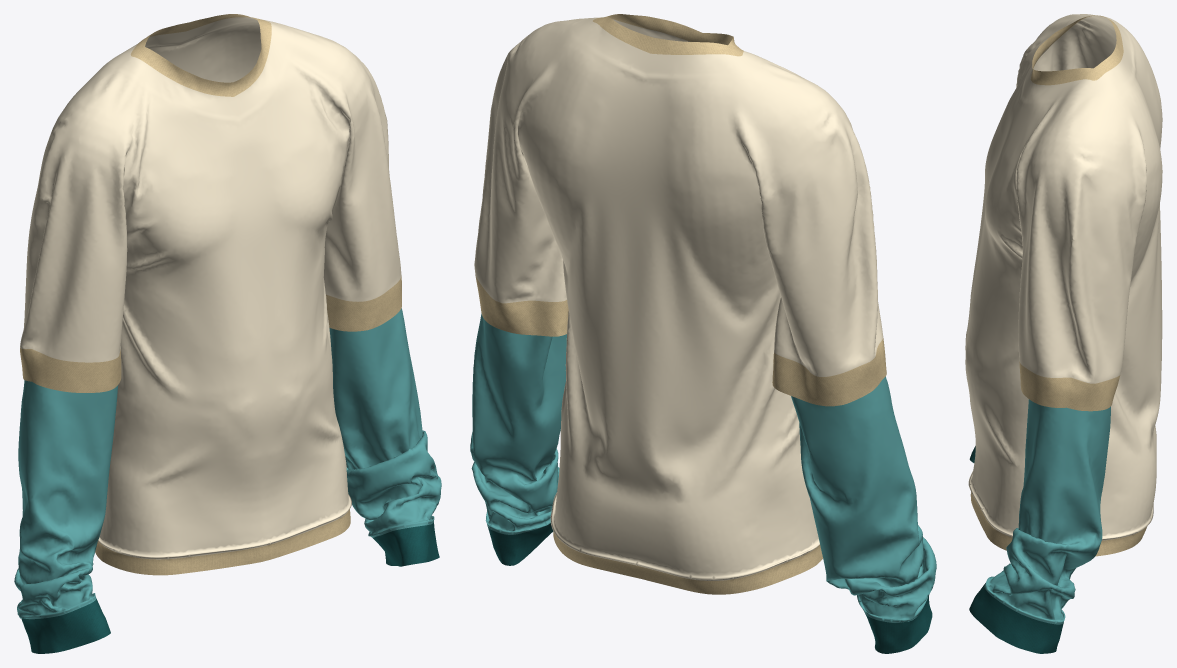
File: jacket.glb
3 views of the same model, side by side, from view 1: azimuth 30°, elevation 25°; view 2: azimuth 150°, elevation 25°; view 3: azimuth 270°, elevation 25° (orthographic). The views are drawn at different scales.
Parts seen in each view (by area): view 1: Internal Line_431419_15, Pattern_417755_2, Pattern_417758_5, Internal Line_431420_16, Internal Line_431421_17, Internal Line_431413_12, Internal Line_431412_6, Pattern_417756_3, Internal Line_431415_8, Internal Line_431406_0, Internal Line_431416_9, Pattern_417757_4 (+2 smaller); view 2: Internal Line_431413_12, Pattern_417755_2, Pattern_417758_5, Internal Line_431418_14, Internal Line_431417_13, Internal Line_431419_15, Internal Line_431408_7, Internal Line_431411_11, Internal Line_431410_10, Internal Line_431404_1, Pattern_417756_3, Internal Line_431406_0 (+2 smaller); view 3: Internal Line_431419_15, Internal Line_431413_12, Pattern_417758_5, Internal Line_431417_13, Internal Line_431421_17, Pattern_417757_4, Internal Line_431416_9, Internal Line_431410_10, Internal Line_431406_0, Internal Line_431408_7, Internal Line_431404_1, Internal Line_431412_6.
Part boxes in pixels (<box>): Internal Line_431419_15: <box>44,23,388,559</box>; Pattern_417755_2: <box>14,380,118,619</box>; Pattern_417758_5: <box>329,308,441,537</box>; Internal Line_431420_16: <box>30,203,126,362</box>; Internal Line_431421_17: <box>324,121,401,301</box>; Internal Line_431413_12: <box>32,17,312,544</box>; Internal Line_431412_6: <box>102,509,350,575</box>; Pattern_417756_3: <box>21,599,110,653</box>; Internal Line_431415_8: <box>31,349,121,392</box>; Internal Line_431406_0: <box>132,20,271,96</box>; Internal Line_431416_9: <box>326,276,401,331</box>; Pattern_417757_4: <box>373,522,439,566</box>; Internal Line_431413_12: <box>491,19,857,580</box>; Pattern_417755_2: <box>791,376,936,622</box>; Pattern_417758_5: <box>470,313,566,534</box>; Internal Line_431418_14: <box>774,208,877,376</box>; Internal Line_431417_13: <box>474,111,566,303</box>; Internal Line_431419_15: <box>515,17,871,548</box>; Internal Line_431408_7: <box>553,531,816,594</box>; Internal Line_431411_11: <box>772,349,882,406</box>; Internal Line_431410_10: <box>475,275,568,336</box>; Internal Line_431404_1: <box>593,16,741,56</box>; Pattern_417756_3: <box>865,596,932,653</box>; Internal Line_431406_0: <box>594,14,743,55</box>; Internal Line_431419_15: <box>965,14,1093,537</box>; Internal Line_431413_12: <box>1073,14,1162,540</box>; Pattern_417758_5: <box>984,399,1110,624</box>; Internal Line_431417_13: <box>1070,239,1131,383</box>; Internal Line_431421_17: <box>1018,240,1075,377</box>; Pattern_417757_4: <box>969,583,1063,653</box>; Internal Line_431416_9: <box>1019,361,1070,407</box>; Internal Line_431410_10: <box>1067,375,1120,411</box>; Internal Line_431406_0: <box>1030,15,1093,85</box>; Internal Line_431408_7: <box>1095,526,1147,556</box>; Internal Line_431404_1: <box>1093,15,1123,80</box>; Internal Line_431412_6: <box>970,492,1012,550</box>.
Bounding box in the file's own units: 6.27 × 8 × 2.68.
18 materials, 10 textured.
